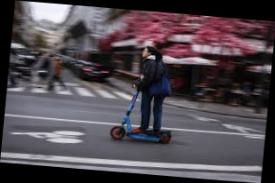multiple: (109, 39, 183, 149)
